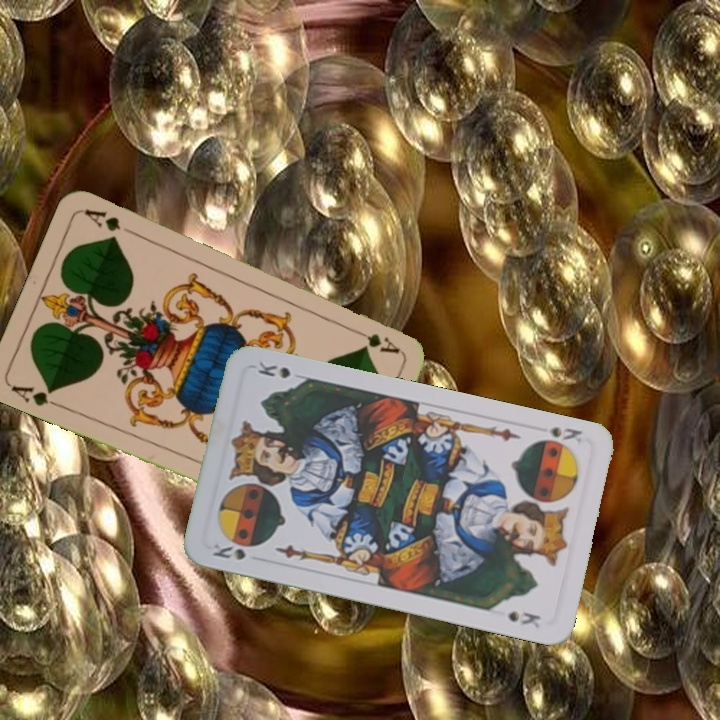GA: (346, 324, 403, 356), (7, 381, 64, 411)
SK: (208, 537, 258, 563), (545, 422, 585, 446)
